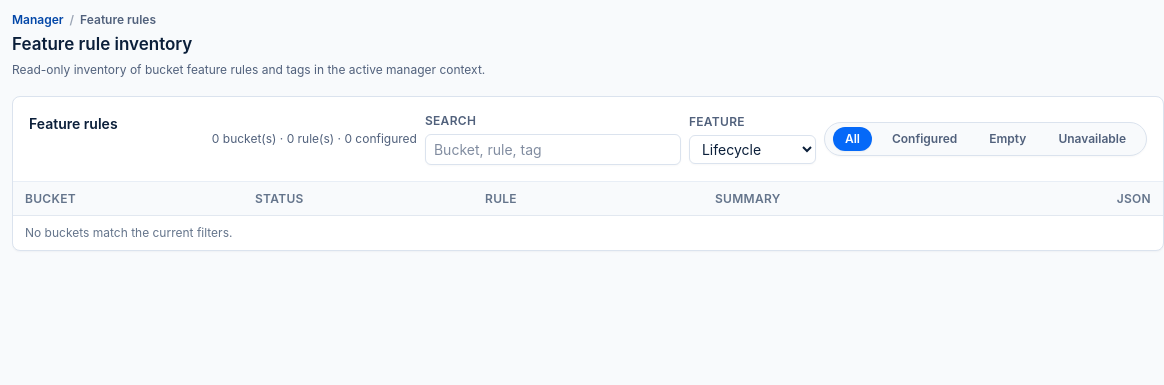
Test: ManagerFeatureRulesPage › renders bucket tags with tag-specific labels
The image size is (1164, 385).
Select "Bucket tags" in the dropdown labelled "Feature": (752, 149) x1=689 y1=134 x2=816 y2=164
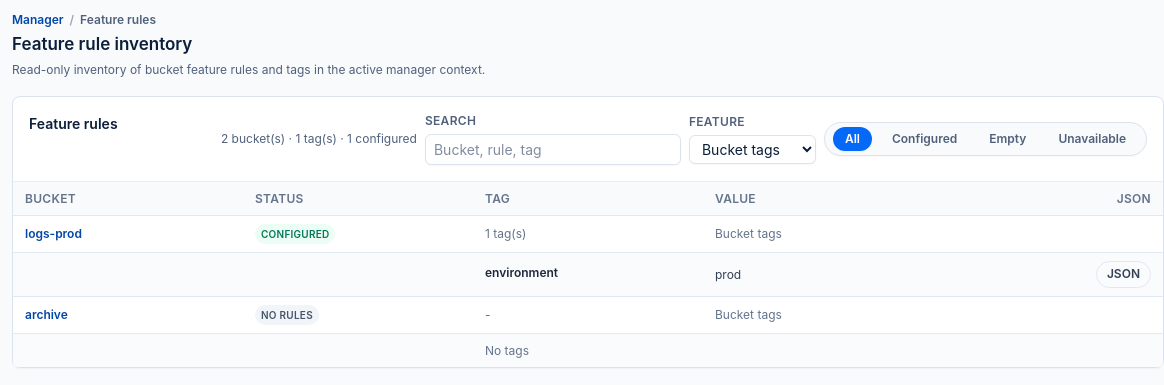
Result: the column heading "Tag" is shown at x1=473 y1=182 x2=703 y2=216
Result: the column heading "Value" is shown at x1=703 y1=182 x2=933 y2=216
Result: the text "1 tag(s)" is shown at x1=473 y1=216 x2=703 y2=253
